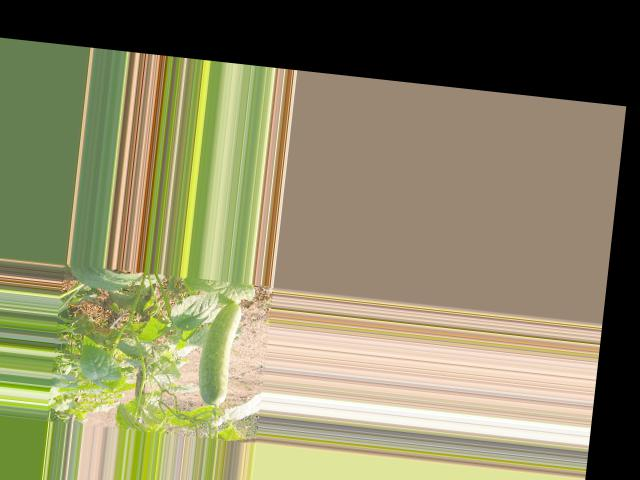cucumber: (195, 299, 242, 406)
